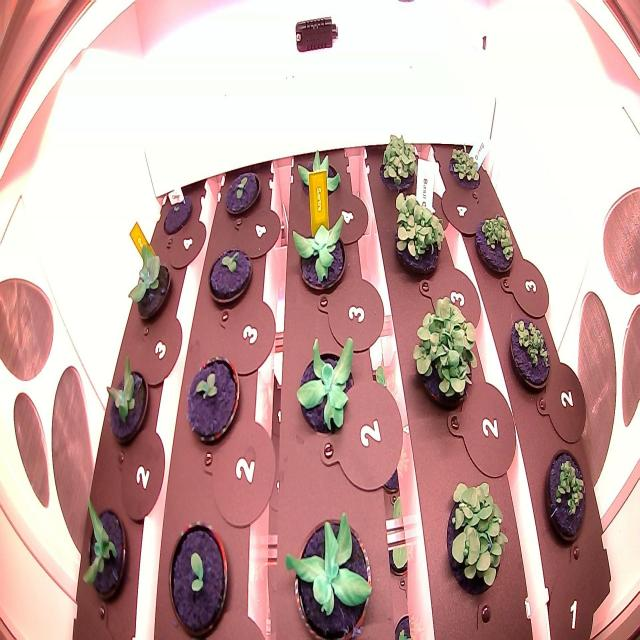germination: (164, 502, 237, 639), (183, 344, 246, 452), (536, 447, 594, 552), (200, 236, 258, 316), (506, 312, 558, 399), (217, 156, 266, 226), (471, 211, 519, 282), (445, 139, 490, 194)
pod: (156, 182, 196, 242)
young: (282, 510, 376, 640), (76, 481, 134, 624), (294, 328, 364, 440), (101, 342, 153, 457), (122, 228, 174, 327), (290, 209, 348, 296), (290, 138, 348, 204)
